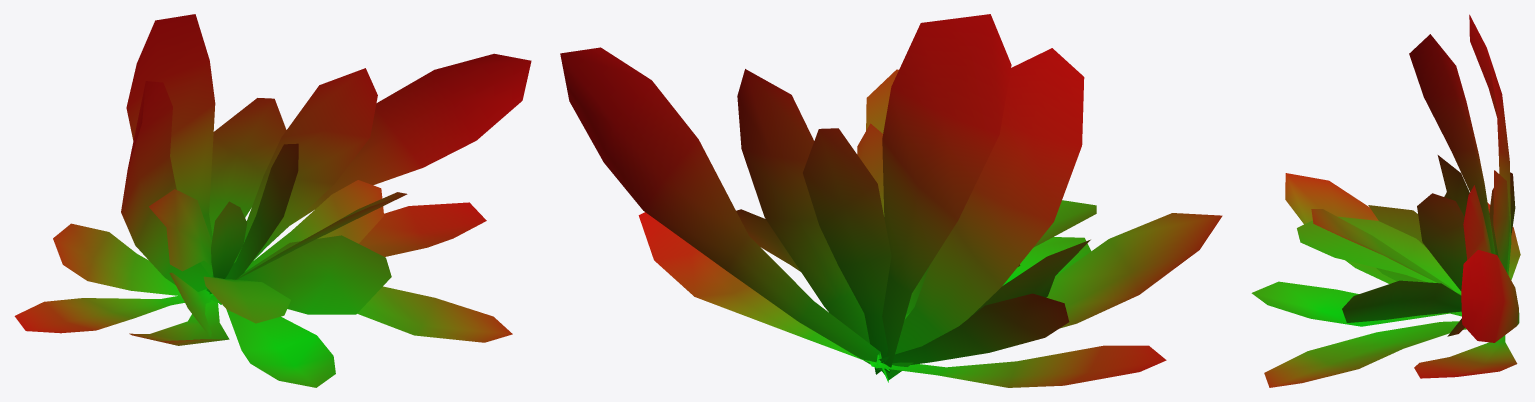
Rendered from Var13_LOD0.fbx.
3 renders of one model, left to right at view 1: azimuth 30°, elevation 25°; view 2: azimuth 150°, elevation 25°; view 3: azimuth 270°, elevation 25°, orthographic. The views are drawn at different scales.
Visible parts, largest first — view 1: _4wra_Var13_LOD0; view 2: _4wra_Var13_LOD0; view 3: _4wra_Var13_LOD0.
Part boxes in pixels (box(x1,y1,x2,y2)): _4wra_Var13_LOD0: box(14, 14, 531, 387); _4wra_Var13_LOD0: box(560, 14, 1222, 387); _4wra_Var13_LOD0: box(1251, 14, 1520, 387).
Bounding box in the file's own units: 14.87 × 8.83 × 7.5.
